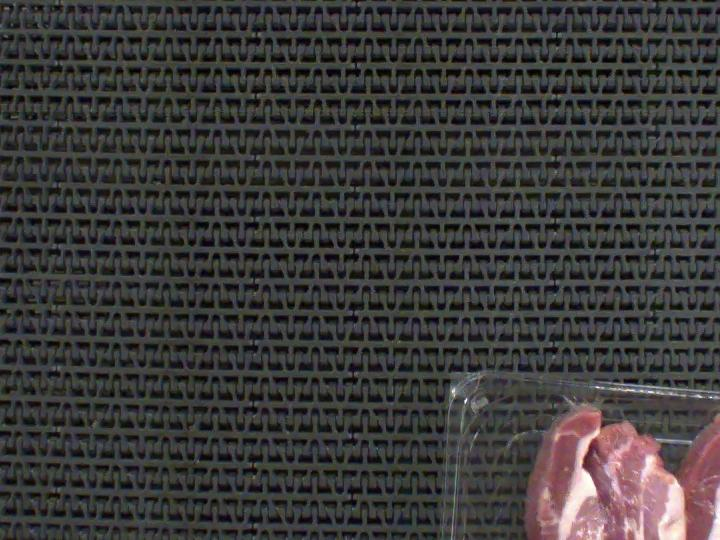packaging-error: (562, 388, 610, 413)
